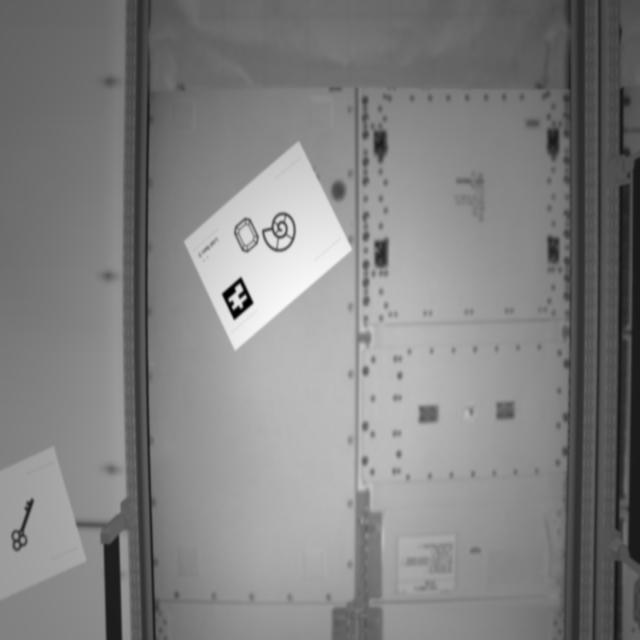emerald: (230, 213, 268, 261)
fossil: (263, 210, 300, 257)
key: (7, 489, 50, 572)
